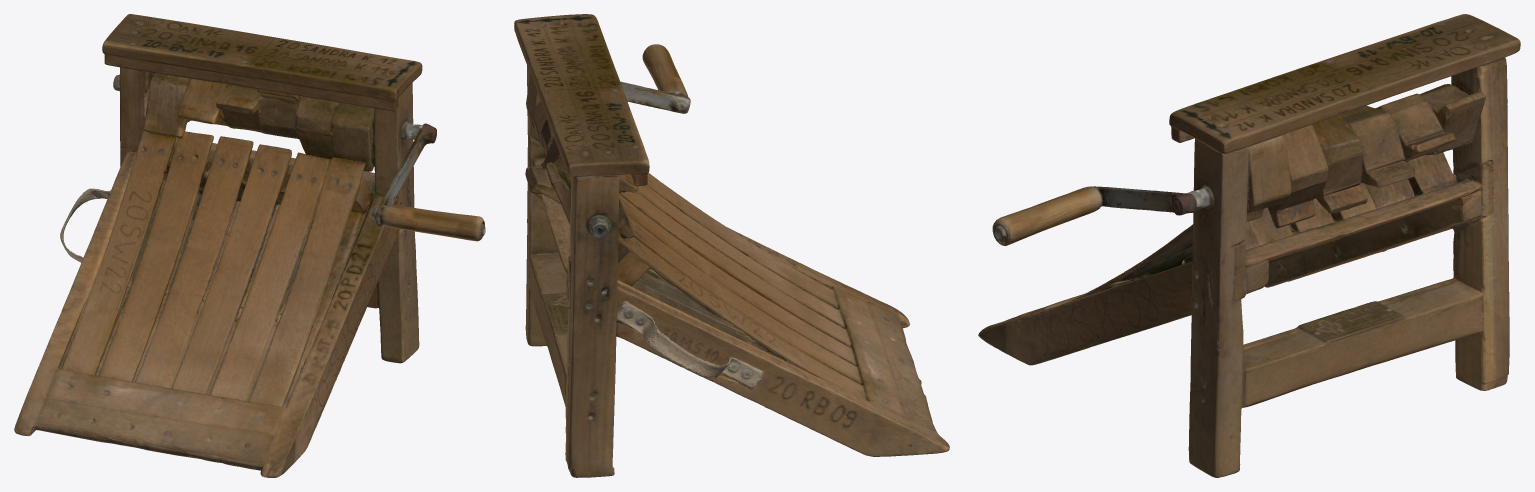
3 renders of one model, left to right at view 1: azimuth 30°, elevation 25°; view 2: azimuth 150°, elevation 25°; view 3: azimuth 270°, elevation 25°, orthographic. The views are drawn at different scales.
Visible parts, largest first — view 1: Ratschel_66k_2k; view 2: Ratschel_66k_2k; view 3: Ratschel_66k_2k.
Boxes of the visible parts, x1=… form: Ratschel_66k_2k: x1=14, y1=14, x2=485, y2=477; Ratschel_66k_2k: x1=514, y1=14, x2=949, y2=477; Ratschel_66k_2k: x1=978, y1=14, x2=1520, y2=477.
Bounding box in the file's own units: 0.554 × 0.3791 × 0.5417.
1 material, 1 textured.
